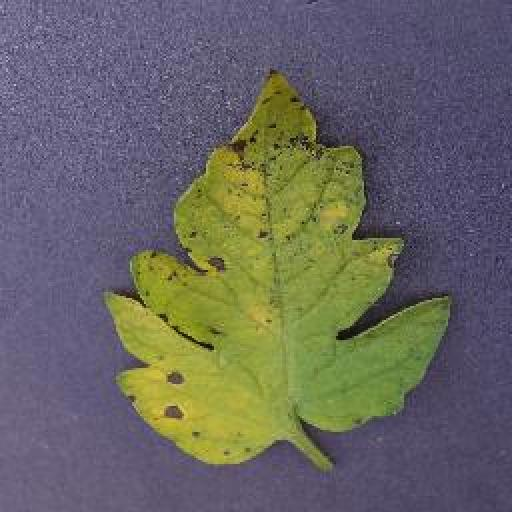disease_tomato: (104, 60, 454, 470)
